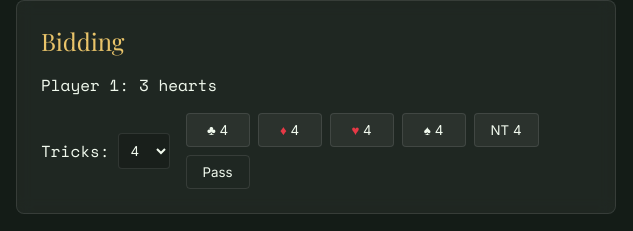
Test: BidPanel › disables bids that do not beat the current bid
Select "3" in the dropdown labelled "Tricks:" at (144, 151), box [118,133,170,169]
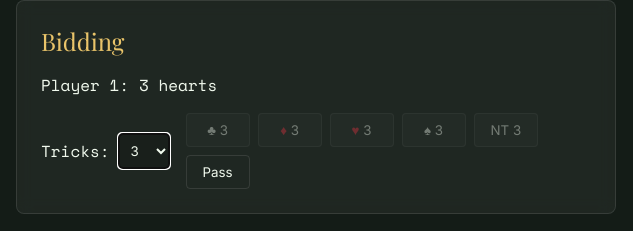
Now the button "♣ 3" is disabled, box [186,113,250,147]
Now the button "♠ 3" is disabled, box [402,113,466,147]
Select "4" in the dropdown labelled "Tricks:" at (144, 151), box [118,133,170,169]
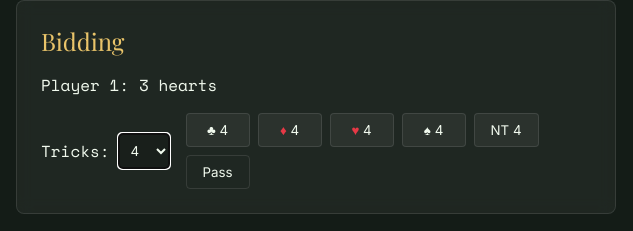
Now the button "♠ 4" is enabled, box [402,113,466,147]
